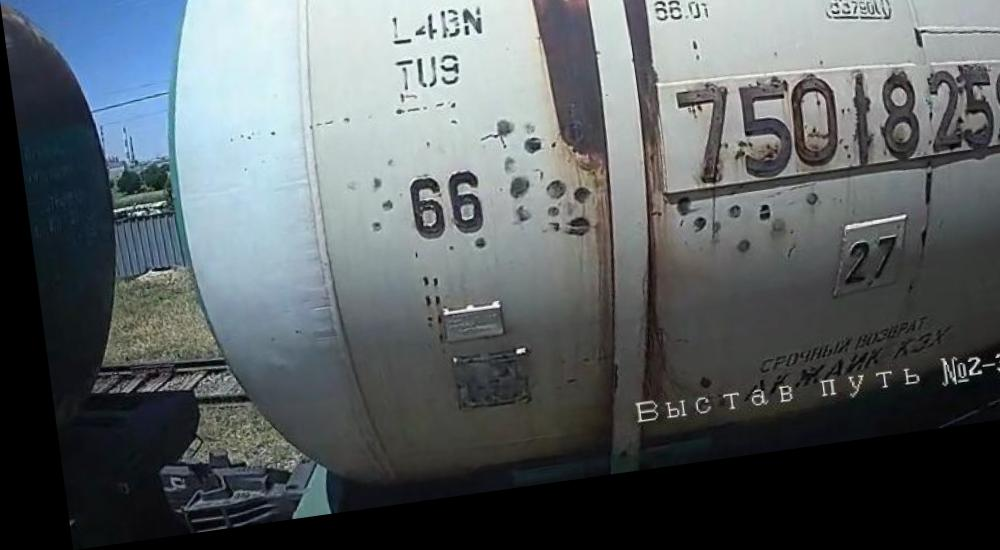Wagon-number: (664, 67, 1000, 216)
